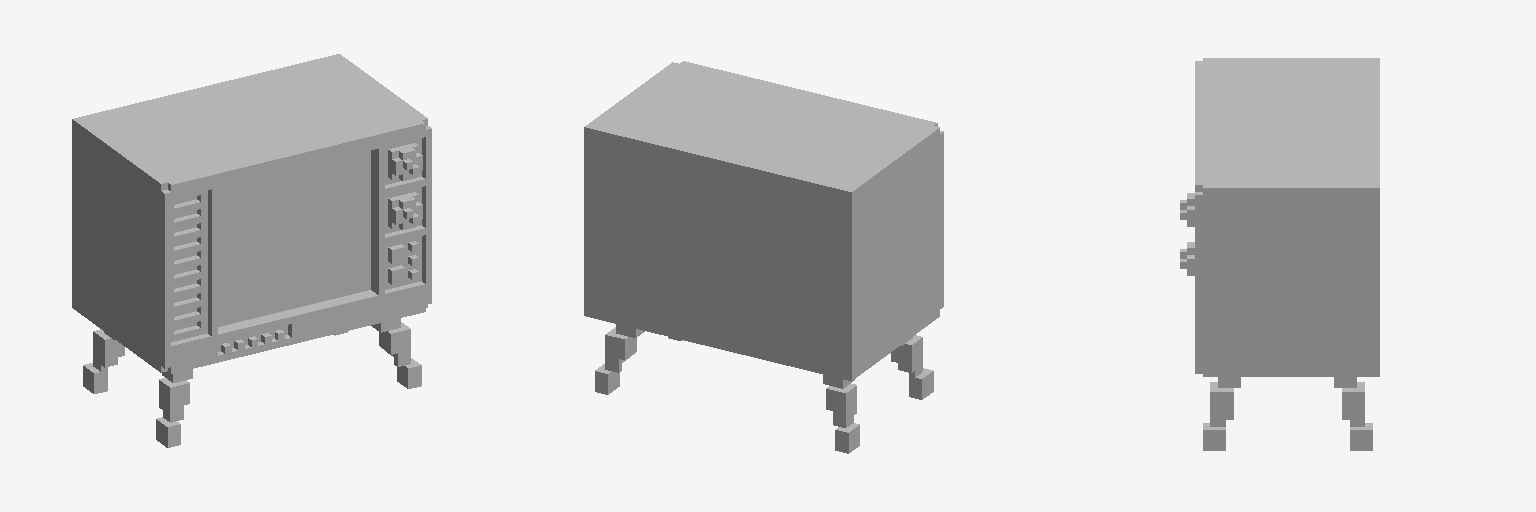
Rendered from TV.vox.obj.
The picture shows the model from 3 angles: view 1: azimuth 30°, elevation 25°; view 2: azimuth 150°, elevation 25°; view 3: azimuth 270°, elevation 25°; orthographic projection.
Parts seen in each view (by area): view 1: object 1; view 2: object 1; view 3: object 1.
Boxes of the visible parts, <box> form: object 1: <box>72,54,431,447</box>; object 1: <box>584,61,943,453</box>; object 1: <box>1180,58,1379,450</box>.
Bounding box in the file's own units: 4 × 3.8 × 2.6.